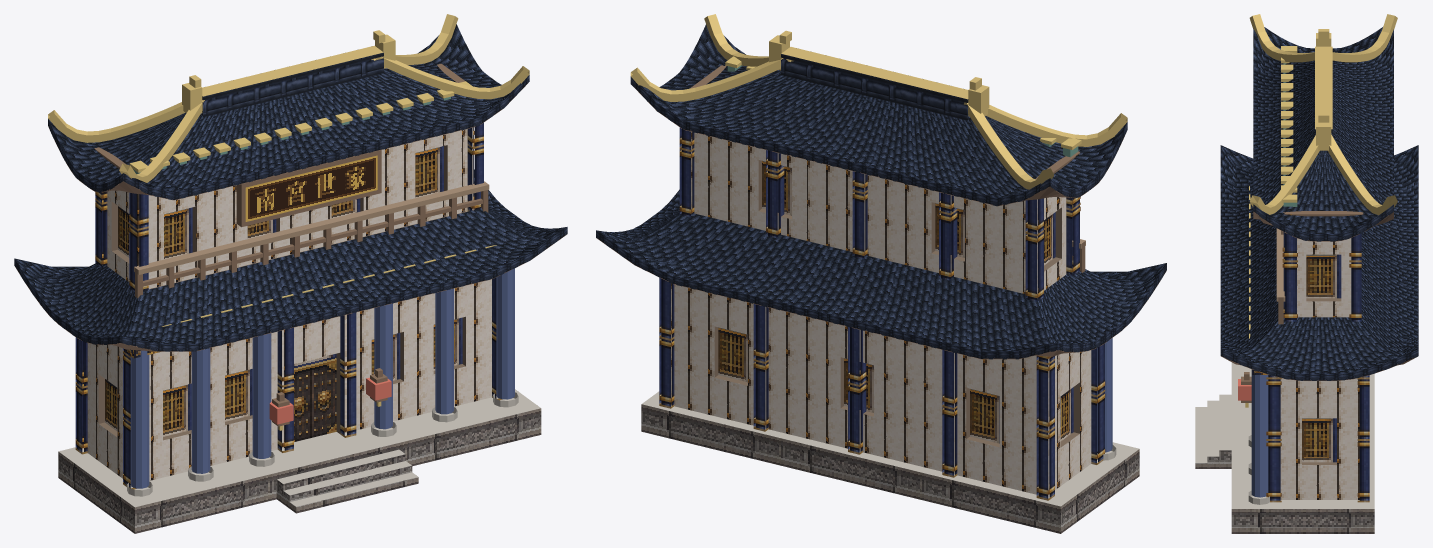
Rendered from g_namgung_hall.glb.
The picture shows the model from 3 angles, left to right: view 1: azimuth 30°, elevation 25°; view 2: azimuth 150°, elevation 25°; view 3: azimuth 270°, elevation 25°; orthographic projection. The views are drawn at different scales.
Visible parts, largest first — view 1: roof, plaster, col, stone, stonetop, post, ridgeend, eave, win, wood, plaque, ridge (+6 smaller); view 2: plaster, roof, post, stone, ridgeend, eave, win, stonetop, ridge, reveal, under, col; view 3: roof, plaster, stonetop, ridgeend, post, stone, win, eave, col, gold, wood, woodl (+1 smaller).
Part boxes in pixels (<box>): roof: <box>15,24,566,344</box>; plaster: <box>87,127,491,480</box>; col: <box>130,268,514,488</box>; stone: <box>58,408,541,533</box>; stonetop: <box>58,389,540,507</box>; post: <box>75,122,502,489</box>; ridgeend: <box>48,14,529,182</box>; eave: <box>14,75,567,351</box>; win: <box>105,146,462,436</box>; wood: <box>94,63,488,426</box>; plaque: <box>245,155,377,221</box>; ridge: <box>201,52,383,117</box>; plaster: <box>671,131,1091,494</box>; roof: <box>596,24,1166,351</box>; post: <box>659,127,1105,500</box>; stone: <box>641,404,1139,533</box>; ridgeend: <box>630,14,1127,189</box>; eave: <box>596,76,1166,359</box>; win: <box>718,160,1073,443</box>; stonetop: <box>642,391,1139,506</box>; ridge: <box>781,54,968,120</box>; reveal: <box>714,160,1079,447</box>; under: <box>596,87,1166,359</box>; col: <box>1097,338,1112,452</box>; roof: <box>1220,27,1418,373</box>; plaster: <box>1280,238,1359,499</box>; stonetop: <box>1195,362,1374,508</box>; ridgeend: <box>1249,14,1397,215</box>; post: <box>1266,232,1369,502</box>; stone: <box>1195,450,1374,533</box>; win: <box>1302,254,1341,462</box>; eave: <box>1220,204,1418,380</box>; col: <box>1251,369,1268,497</box>; gold: <box>1245,46,1297,407</box>; wood: <box>1241,211,1363,402</box>; woodl: <box>1276,228,1285,301</box>.
Size of the model in its own units: 88.03 by 73.97 by 40.7.
Materials: 20 (10 with a texture image).
